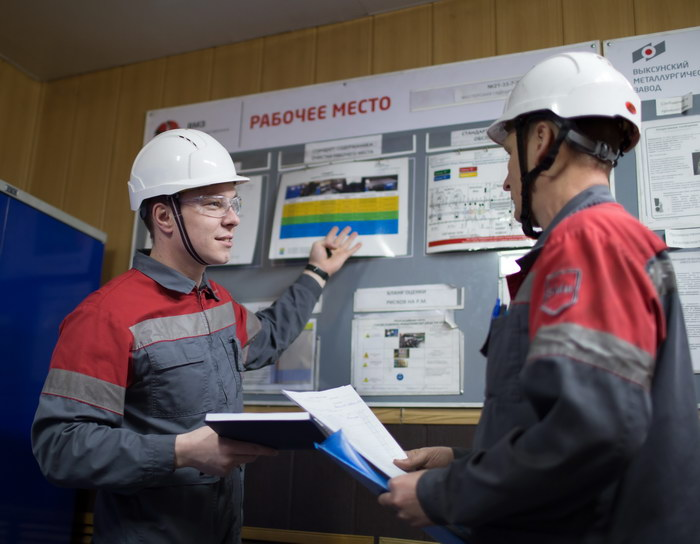person: (379, 52, 698, 544), (30, 128, 365, 542)
